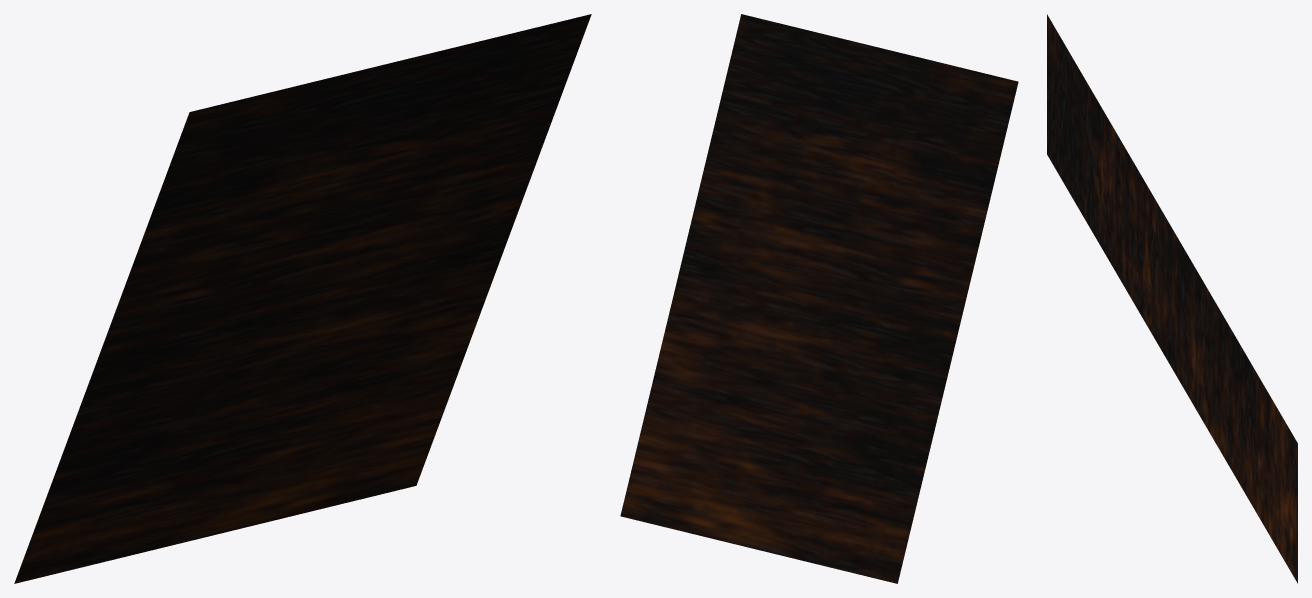
The model's file is Timberframing_Roof_3x3_3_City_Environment.FBX.
The picture shows the model from 3 angles, left to right: view 1: azimuth 30°, elevation 25°; view 2: azimuth 150°, elevation 25°; view 3: azimuth 270°, elevation 25°; orthographic projection. The views are drawn at different scales.
Visible parts, largest first — view 1: Timberframing_Roof_3x3_3_City_Environment; view 2: Timberframing_Roof_3x3_3_City_Environment; view 3: Timberframing_Roof_3x3_3_City_Environment.
Part boxes in pixels (x1,y1,x2,y2): Timberframing_Roof_3x3_3_City_Environment: (14, 14, 591, 583); Timberframing_Roof_3x3_3_City_Environment: (620, 14, 1018, 583); Timberframing_Roof_3x3_3_City_Environment: (1047, 14, 1297, 583).
Bounding box in the file's own units: 200 × 285 × 151.
